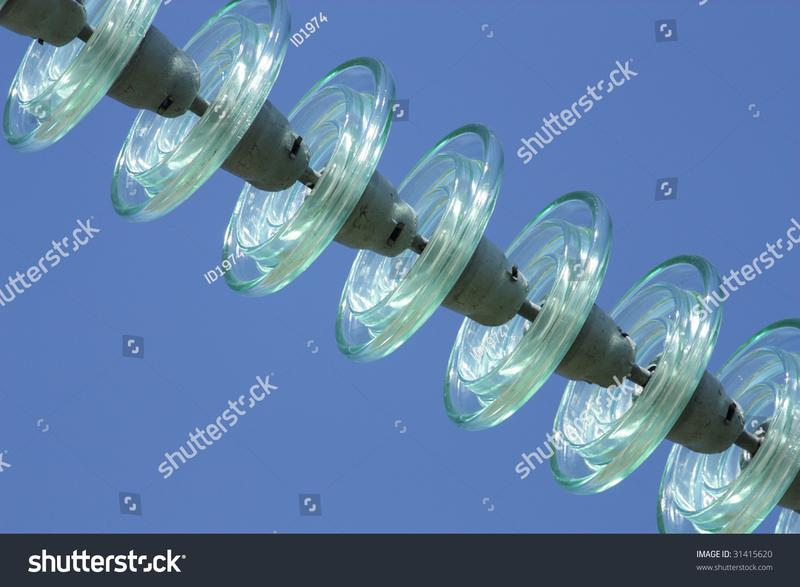isolator: (1, 1, 800, 534)
